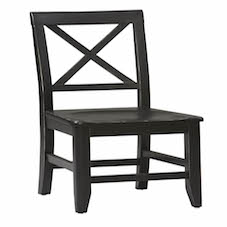chair: (16, 4, 212, 219)
